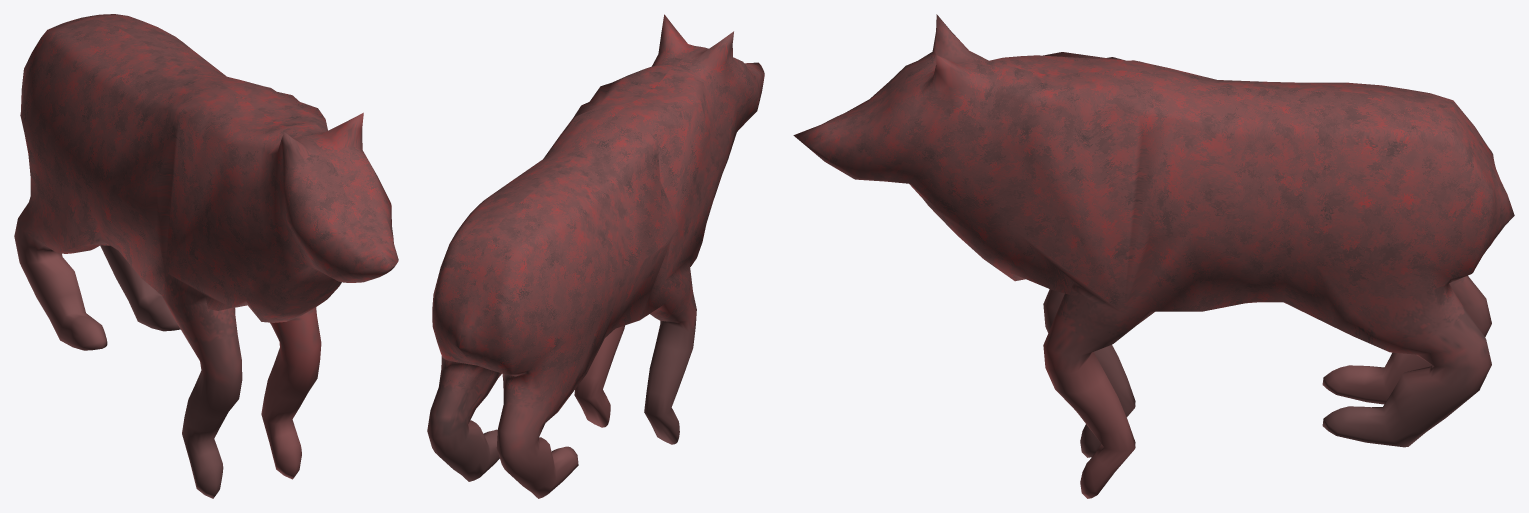
The model's file is piesblend_000032.obj.
3 renders of one model, left to right at view 1: azimuth 30°, elevation 25°; view 2: azimuth 150°, elevation 25°; view 3: azimuth 270°, elevation 25°, orthographic. The views are drawn at different scales.
Parts seen in each view (by area): view 1: Cube; view 2: Cube; view 3: Cube.
Boxes of the visible parts, left/top/right/bottom form: Cube: left=14, top=14, right=398, bottom=498; Cube: left=427, top=14, right=764, bottom=498; Cube: left=793, top=14, right=1514, bottom=498.
Bounding box in the file's own units: 2.55 × 6.32 × 9.31.
1 material, 1 textured.
